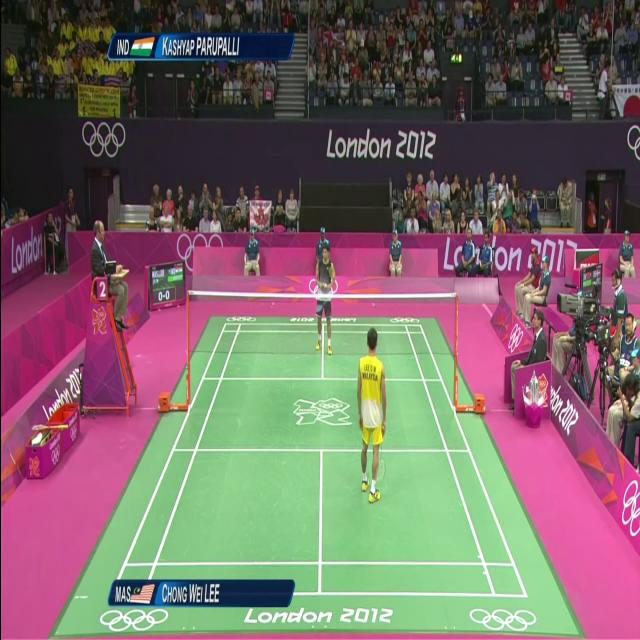Net: (174, 277, 457, 383)
Player1: (346, 315, 394, 504)
Player2: (306, 231, 346, 363)
